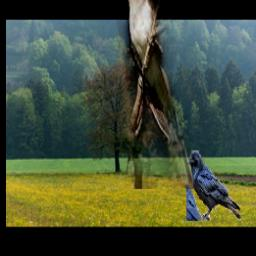Crow: (187, 150, 243, 222)
Cuckoo: (117, 0, 194, 190)
